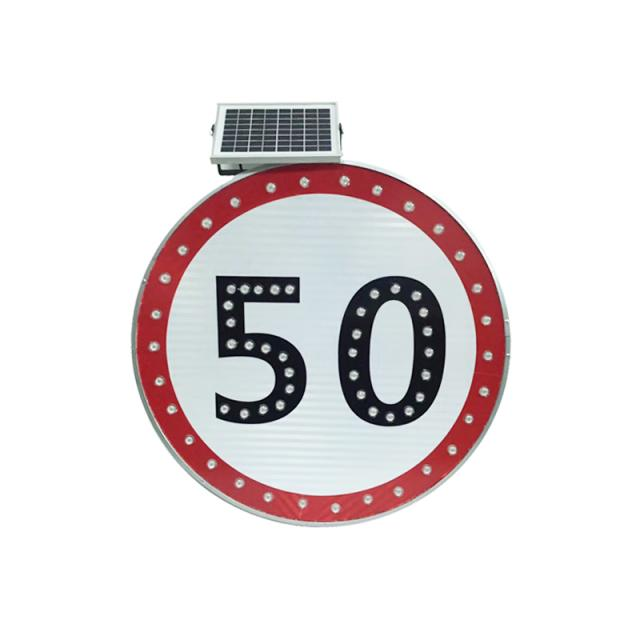speed limit 50: (130, 160, 513, 528)
